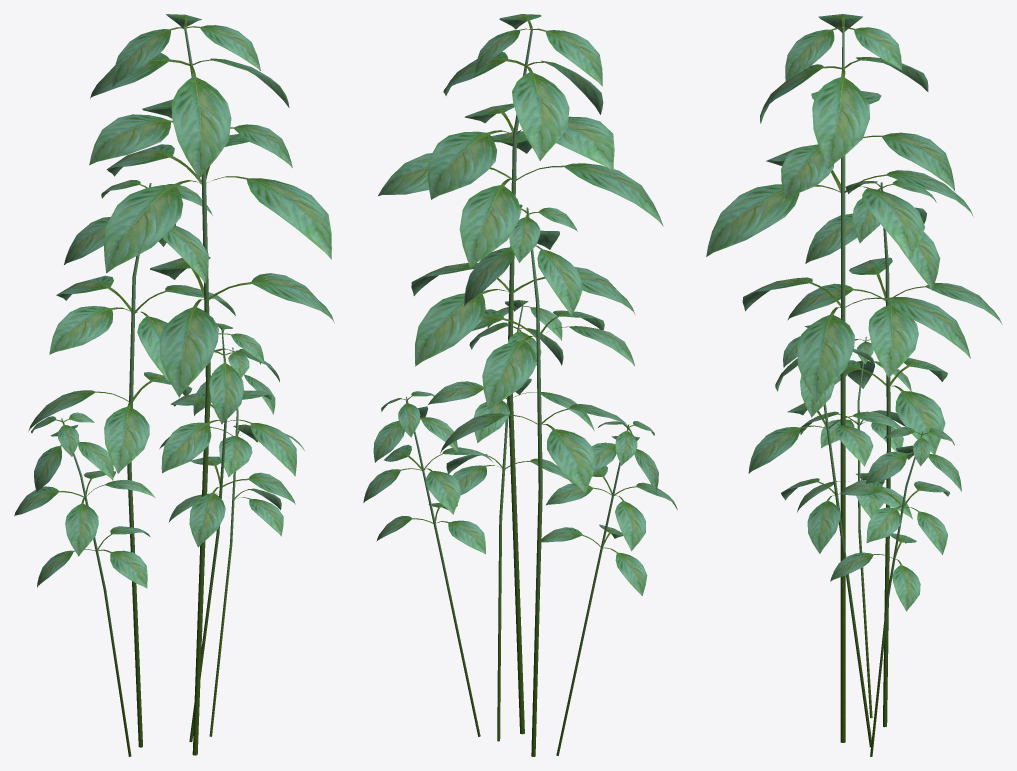
File: Basil4.fbx
The picture shows the model from 3 angles, left to right: view 1: azimuth 30°, elevation 25°; view 2: azimuth 150°, elevation 25°; view 3: azimuth 270°, elevation 25°; orthographic projection. The views are drawn at different scales.
Visible parts, largest first — view 1: Basil_4; view 2: Basil_4; view 3: Basil_4.
Boxes of the visible parts, <box> form: Basil_4: <box>14,14,334,756</box>; Basil_4: <box>363,14,677,756</box>; Basil_4: <box>706,14,1002,756</box>.
Bounding box in the file's own units: 31.8 × 80.47 × 30.39.
